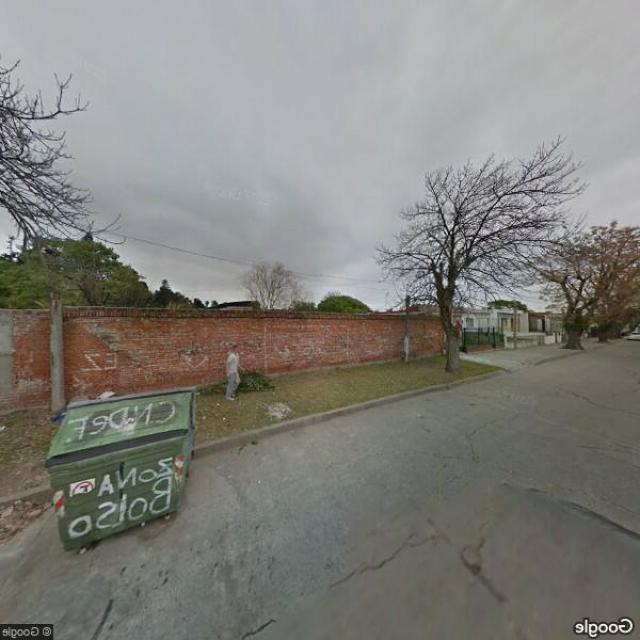garbage container: (33, 371, 216, 568)
